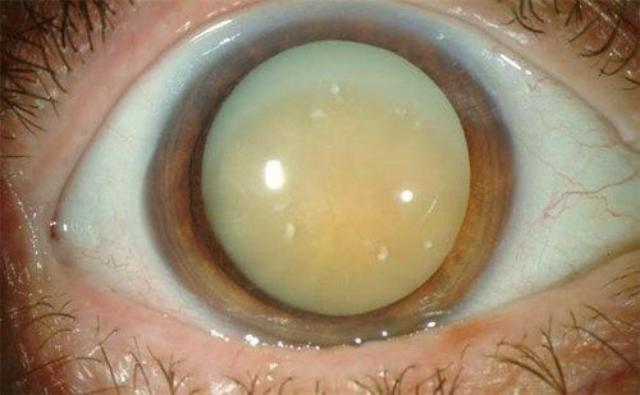eye: (142, 12, 520, 346)
